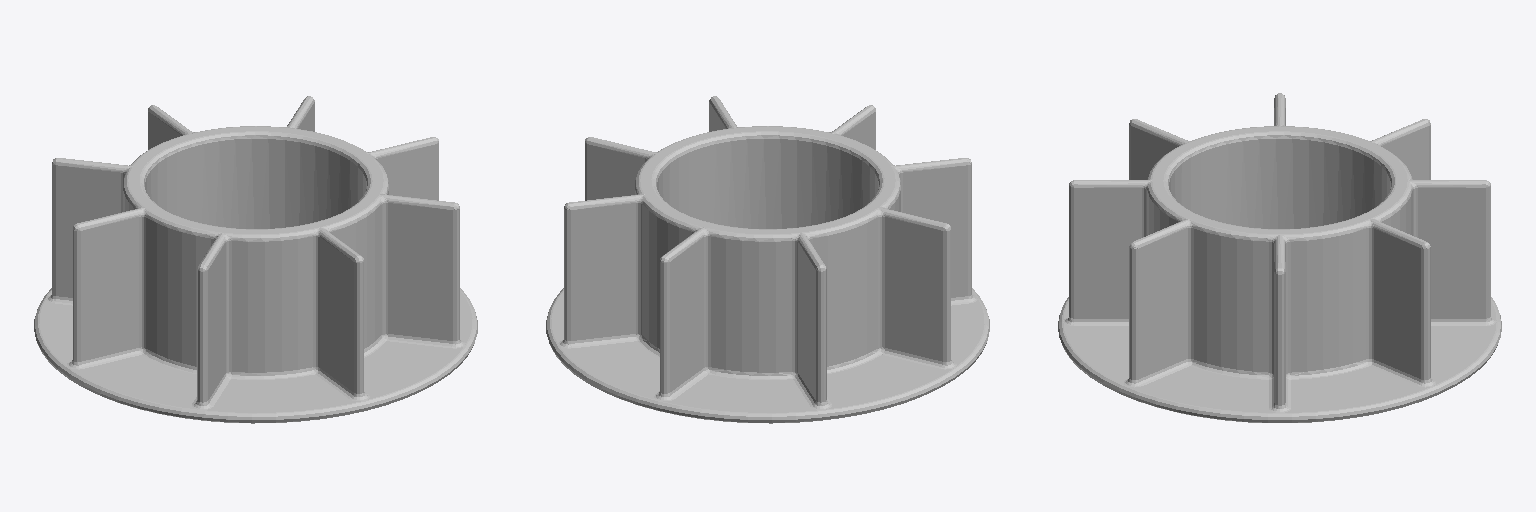
The model's file is Randverbinder2.obj.
3 renders of one model, left to right at view 1: azimuth 30°, elevation 25°; view 2: azimuth 150°, elevation 25°; view 3: azimuth 270°, elevation 25°, orthographic.
Visible parts, largest first — view 1: Volumenkörper1; view 2: Volumenkörper1; view 3: Volumenkörper1.
Part boxes in pixels (left/top/right/bottom): Volumenkörper1: left=34, top=96, right=477, bottom=423; Volumenkörper1: left=546, top=96, right=989, bottom=423; Volumenkörper1: left=1058, top=93, right=1501, bottom=422.
Bounding box in the file's own units: 79.88 × 30 × 80.